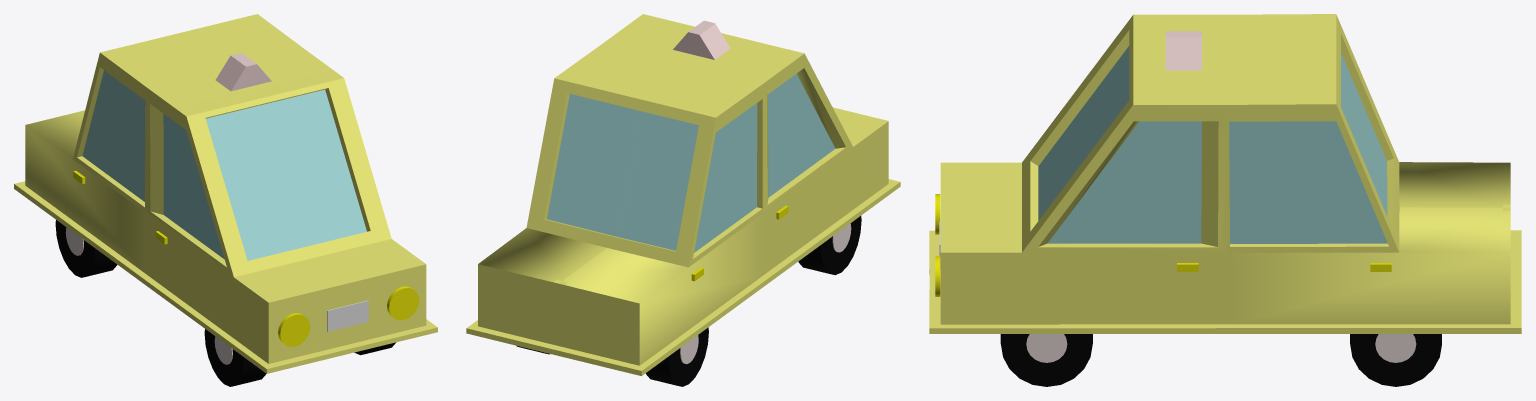
The model's file is car1.fbx.
3 renders of one model, left to right at view 1: azimuth 30°, elevation 25°; view 2: azimuth 150°, elevation 25°; view 3: azimuth 270°, elevation 25°, orthographic. The views are drawn at different scales.
Visible parts, largest first — view 1: polySurface43; view 2: polySurface43; view 3: polySurface43.
Boxes of the visible parts, <box> form: polySurface43: <box>14,14,437,386</box>; polySurface43: <box>466,14,900,386</box>; polySurface43: <box>929,14,1521,386</box>.
Size of the model in its own units: 4.58 by 6.72 by 11.72.
